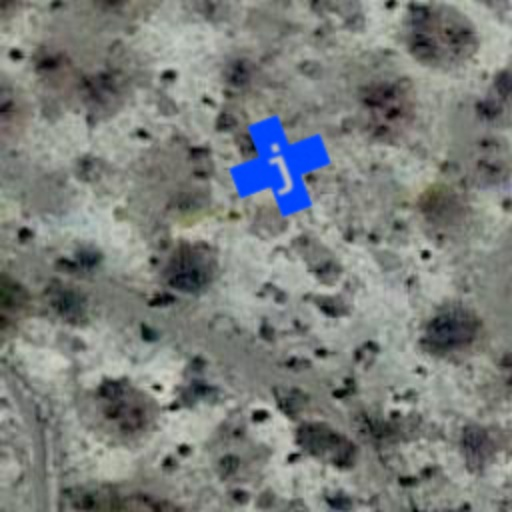cross: (216, 102, 344, 230)
